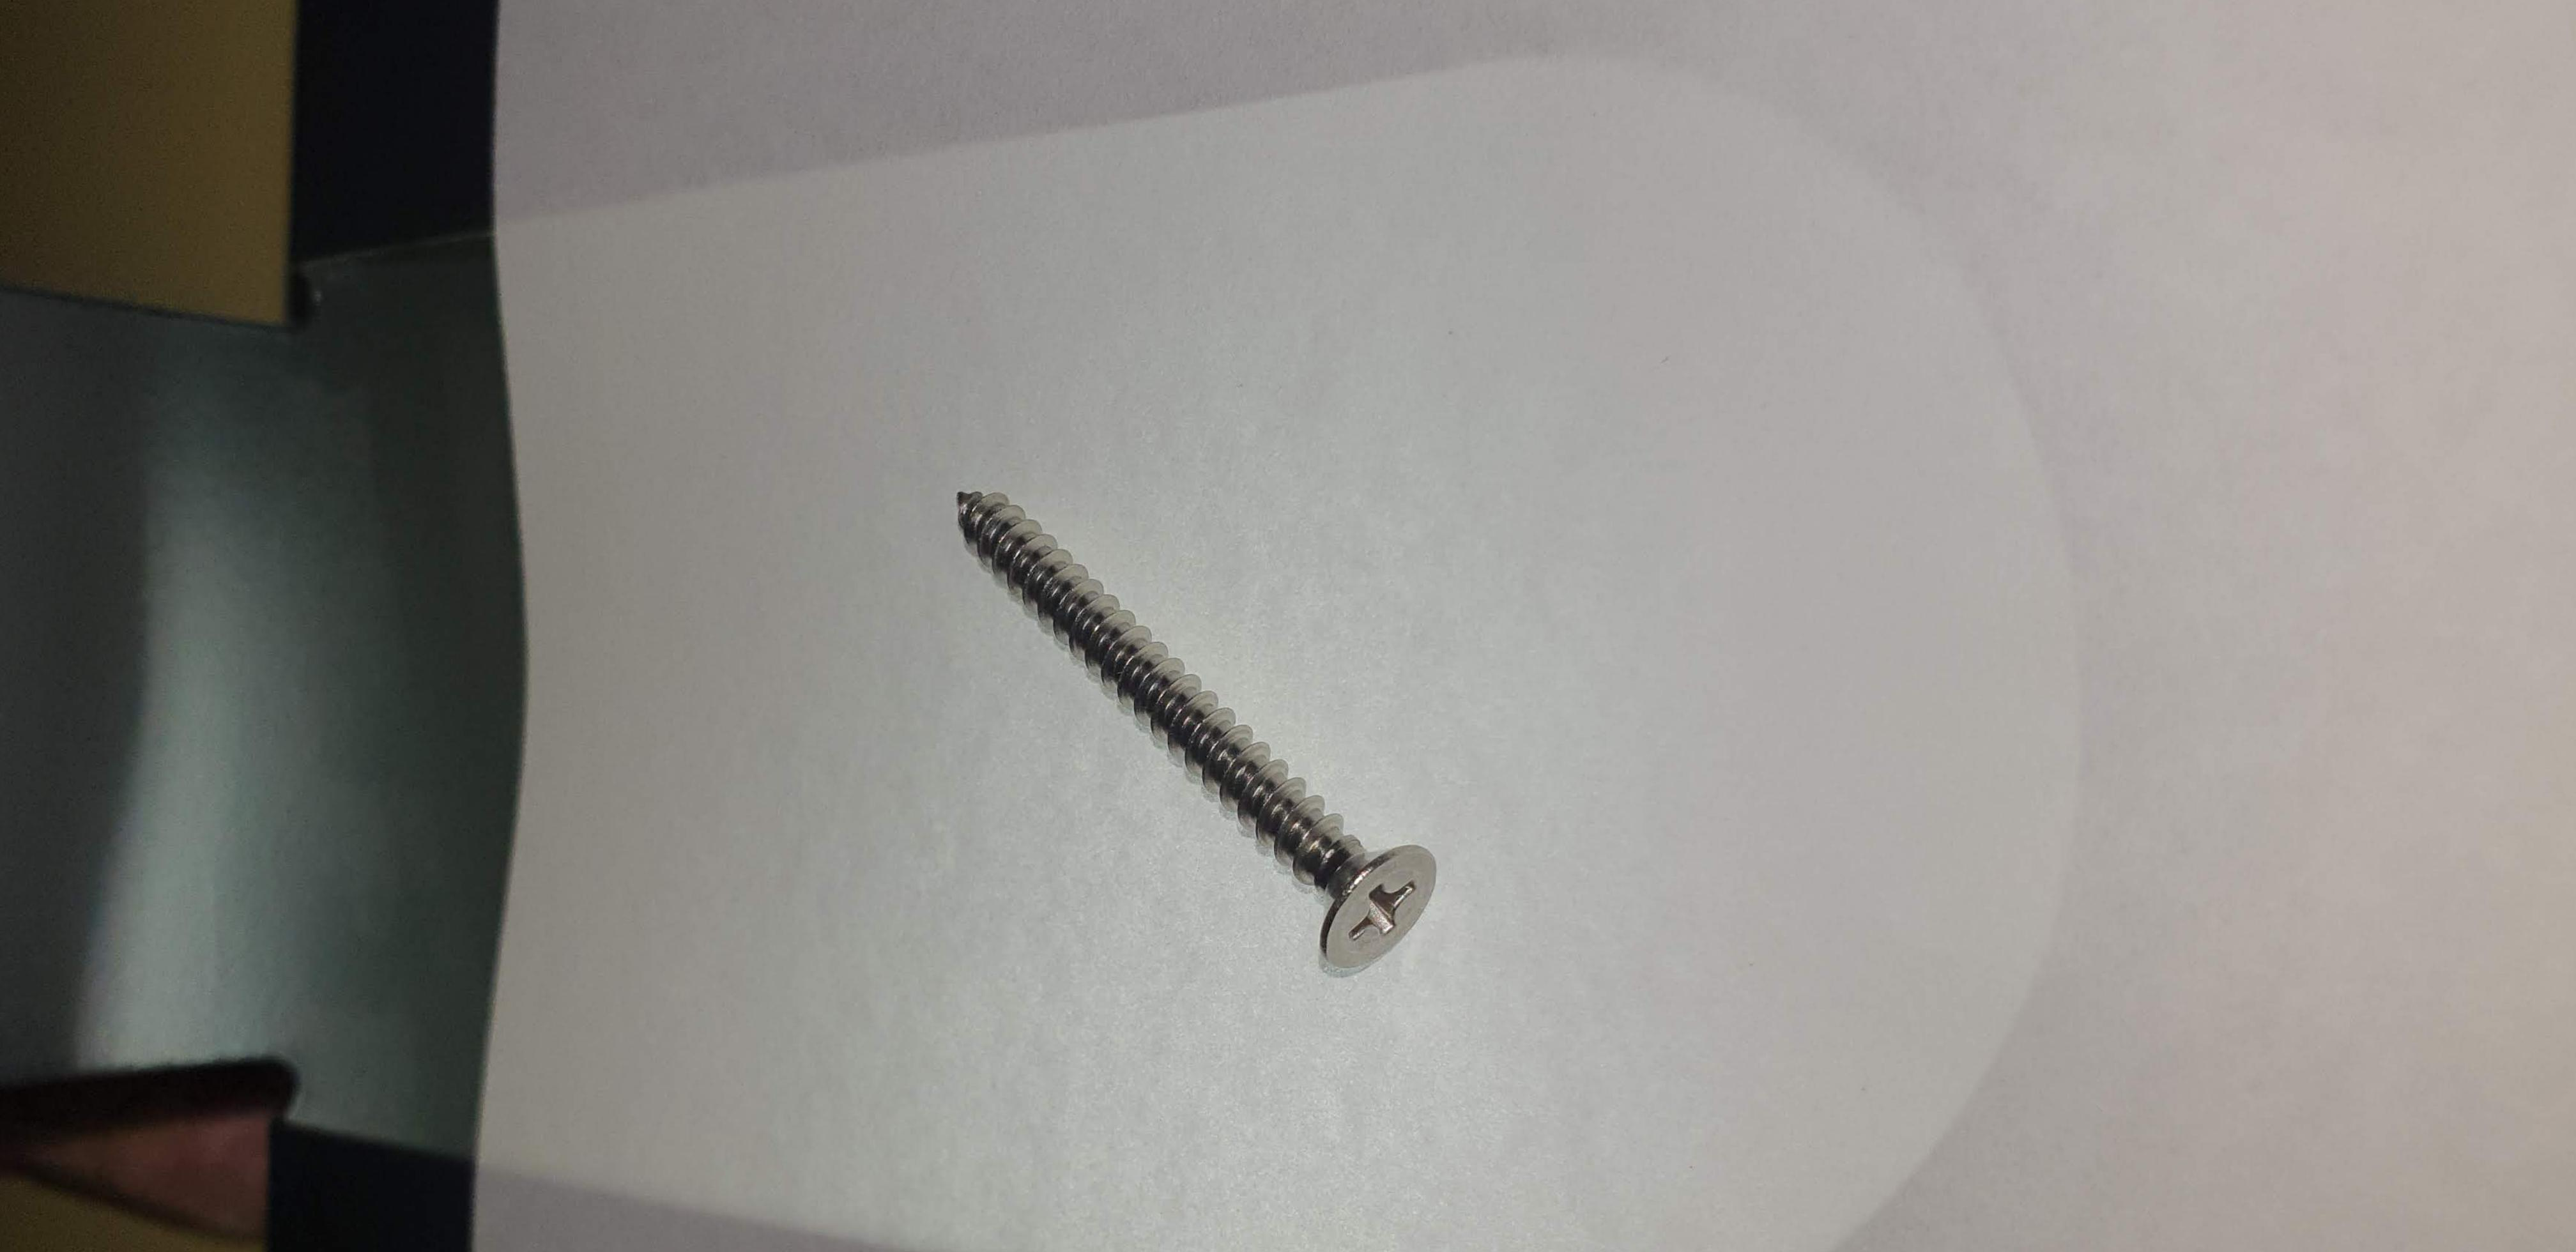fastener: (864, 411, 1590, 1058)
